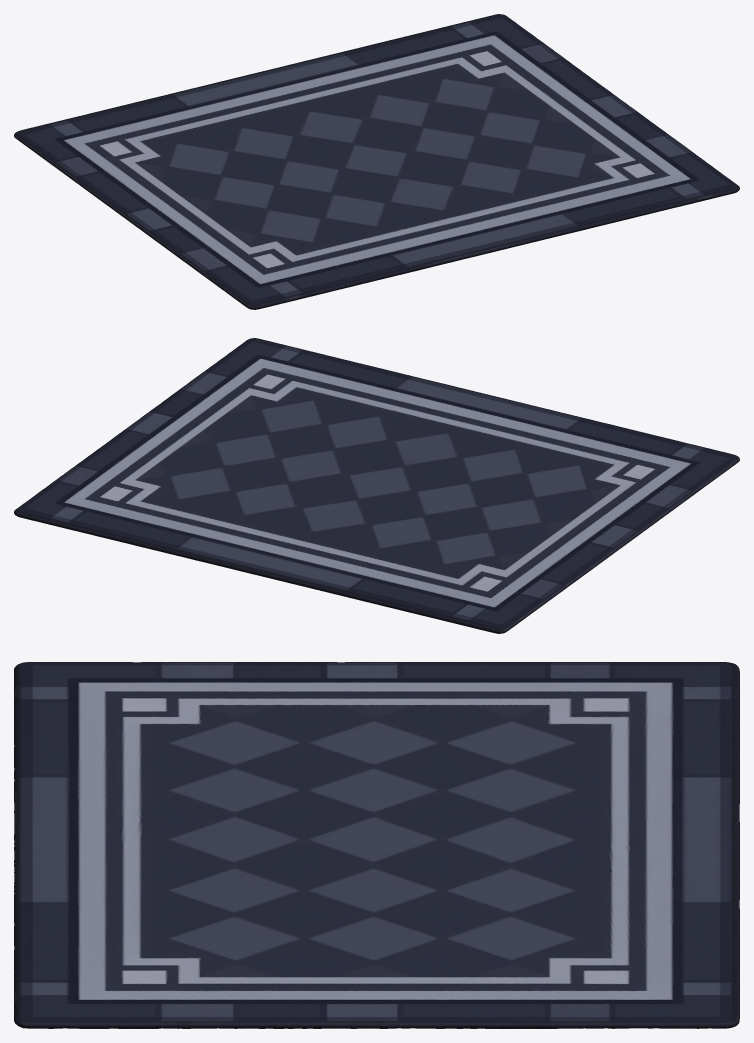
The model's file is Alfombra_Cuadriculada.glb.
3 renders of one model, top to bottom at view 1: azimuth 30°, elevation 25°; view 2: azimuth 150°, elevation 25°; view 3: azimuth 270°, elevation 25°, orthographic. The views are drawn at different scales.
Bounding box in the file's own units: 1.9 × 0.0201 × 1.61.
Materials: 1 (1 with a texture image).
